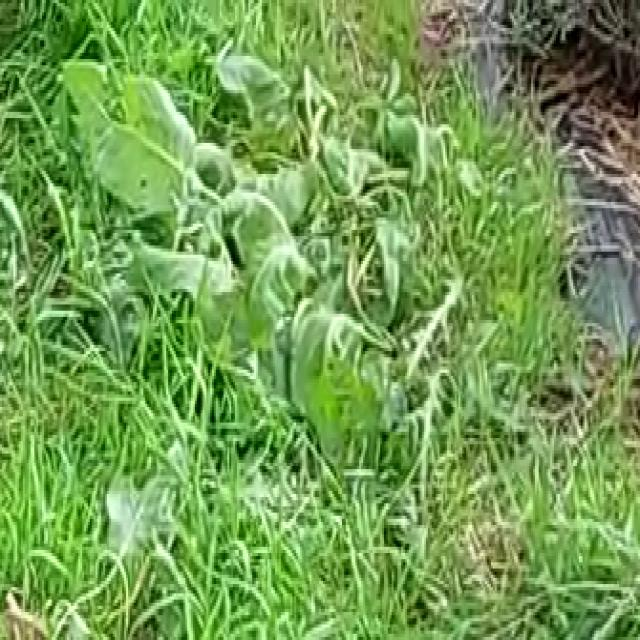organic waste: (212, 71, 506, 532), (44, 25, 311, 323), (57, 422, 239, 630)
